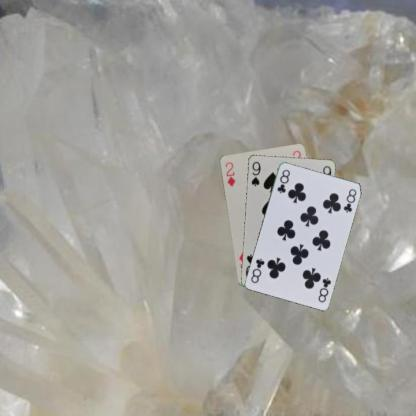2d: (222, 159, 236, 188)
8c: (274, 166, 292, 195), (316, 275, 332, 303)
9s: (248, 159, 262, 187)
